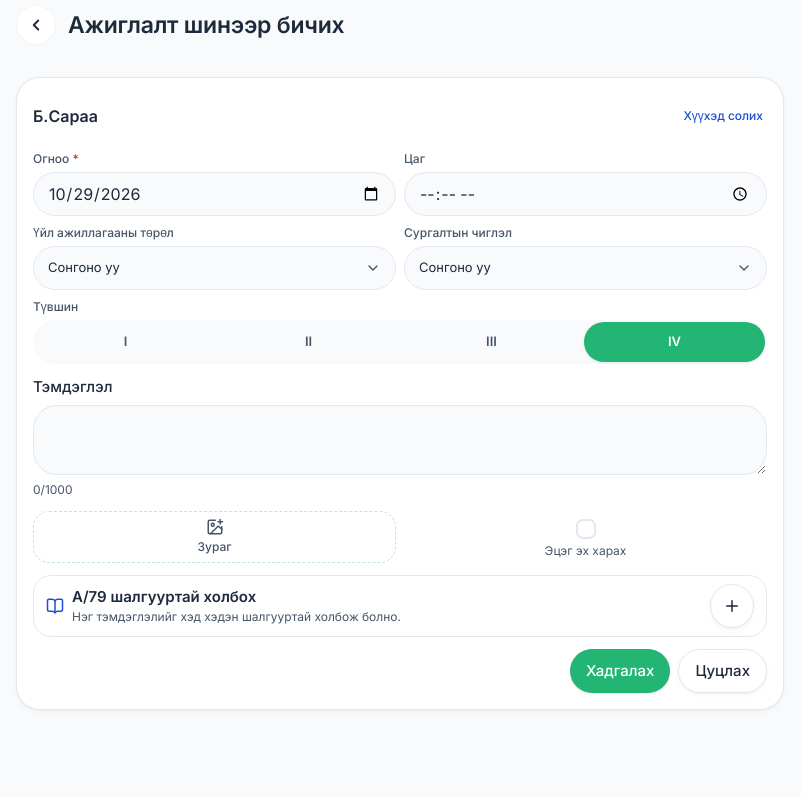
Шинэ ажиглалт — СҮД › clears the code when the strand changes
The image size is (801, 797).
Click the dropdown named "Сургалтын чиглэл": (455, 267) [404,246,767,290]
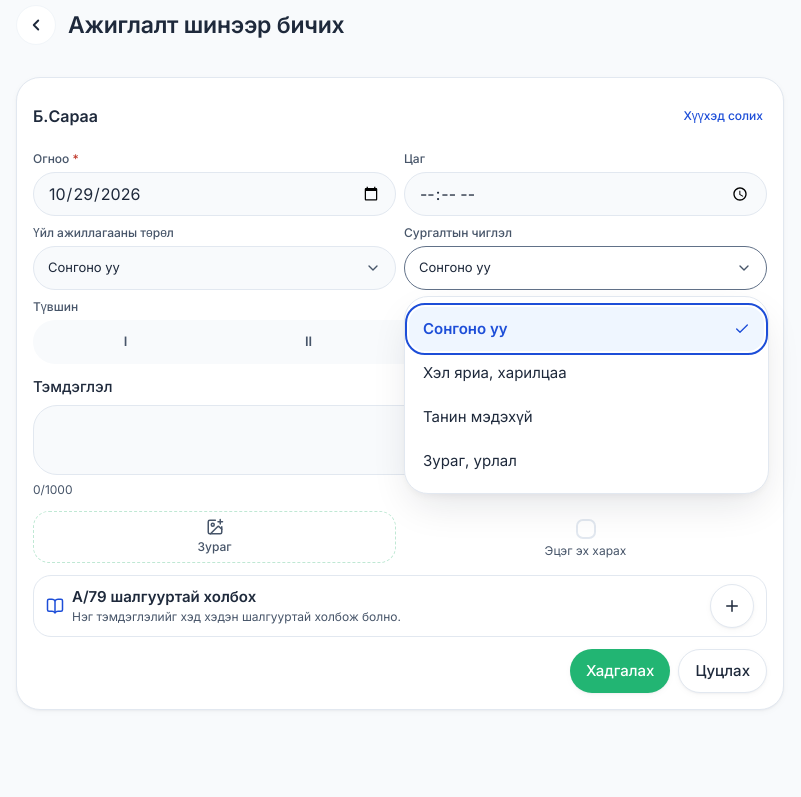
Click the option "Хэл яриа, харилцаа": (495, 372) [423,363,567,382]
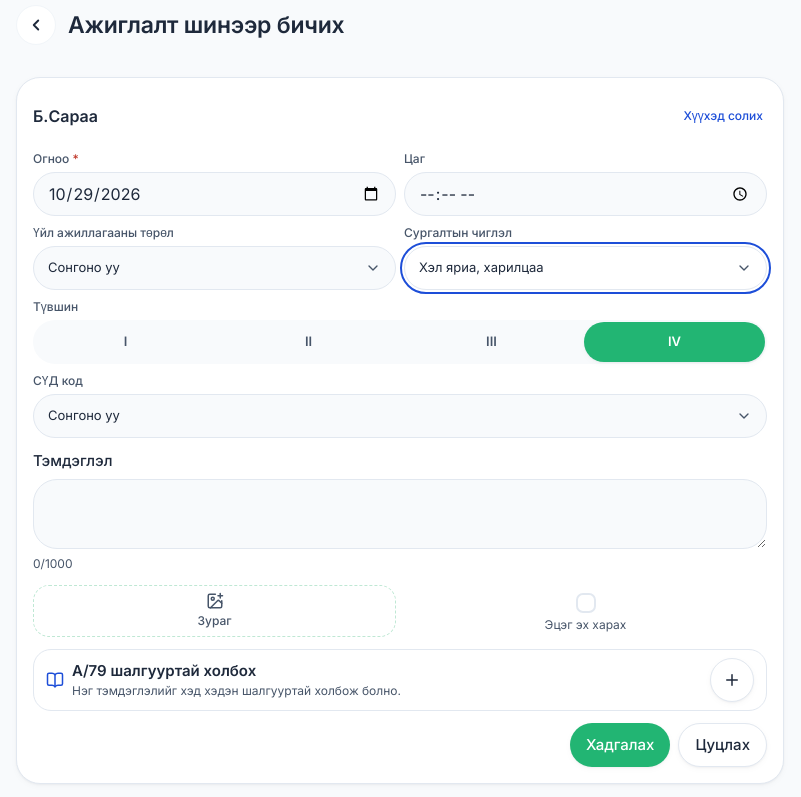
Click the dropdown named "СҮД код": (84, 415) [33,394,767,438]
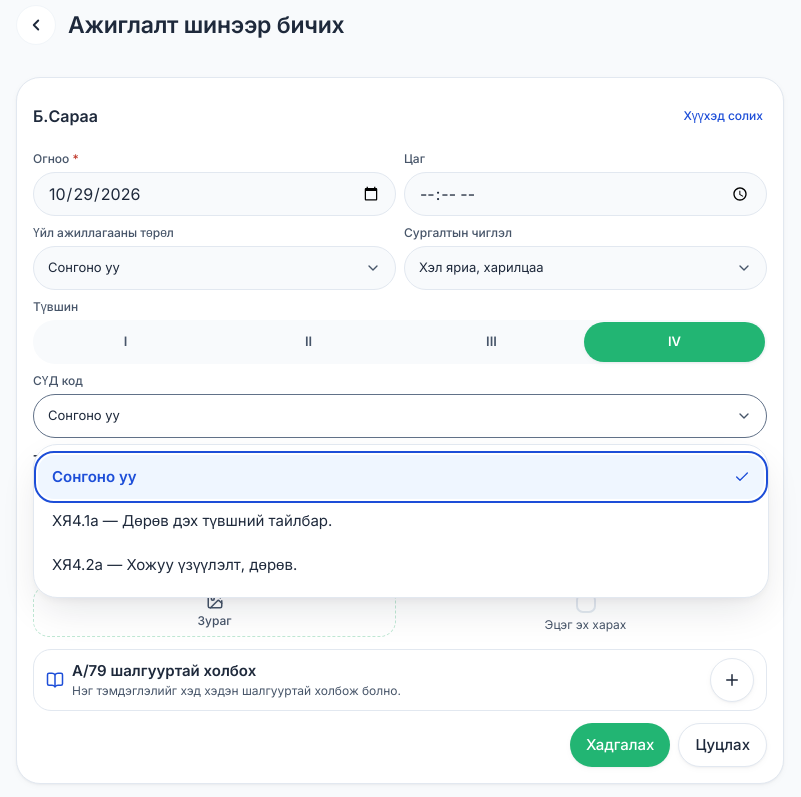
Click the option "ХЯ4.1а — Дөрөв дэх түвшний тайлбар.": (192, 520) [52,511,332,530]
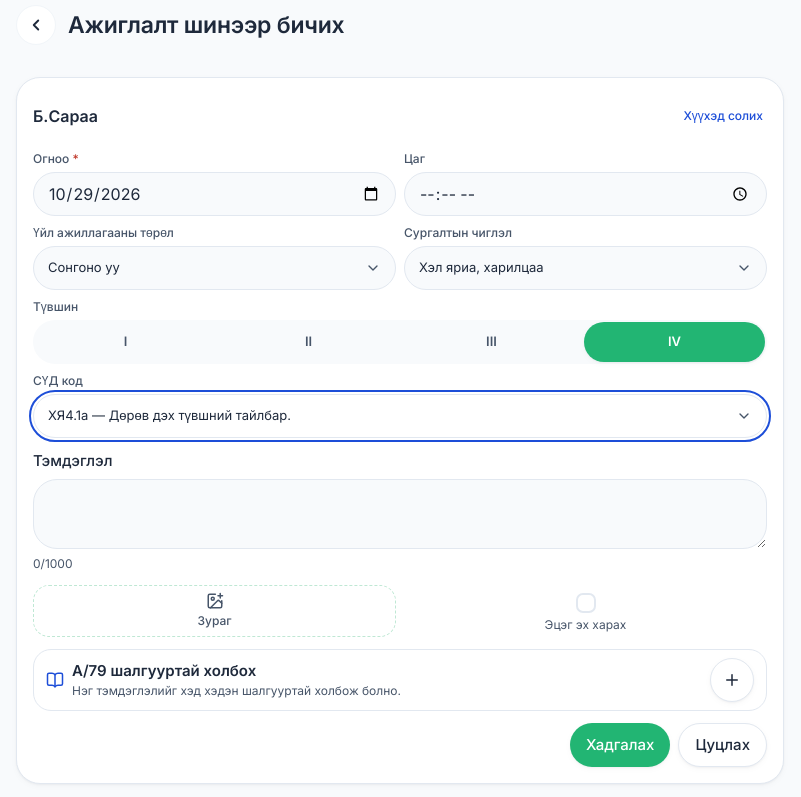
Click the dropdown named "Сургалтын чиглэл": (481, 267) [404,246,767,290]
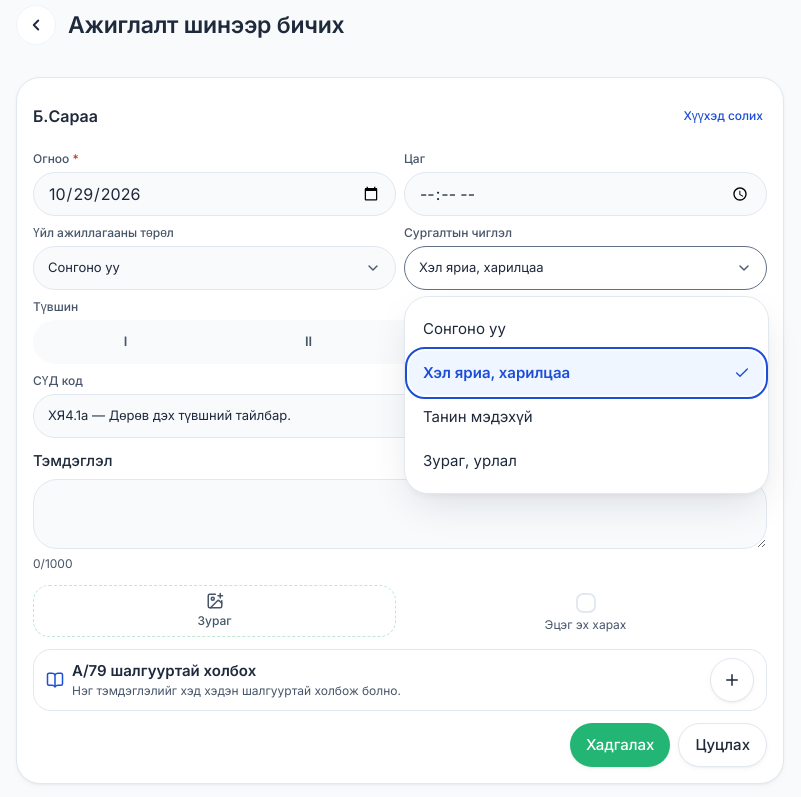
Click the option "Танин мэдэхүй": (478, 416) [423,407,533,426]
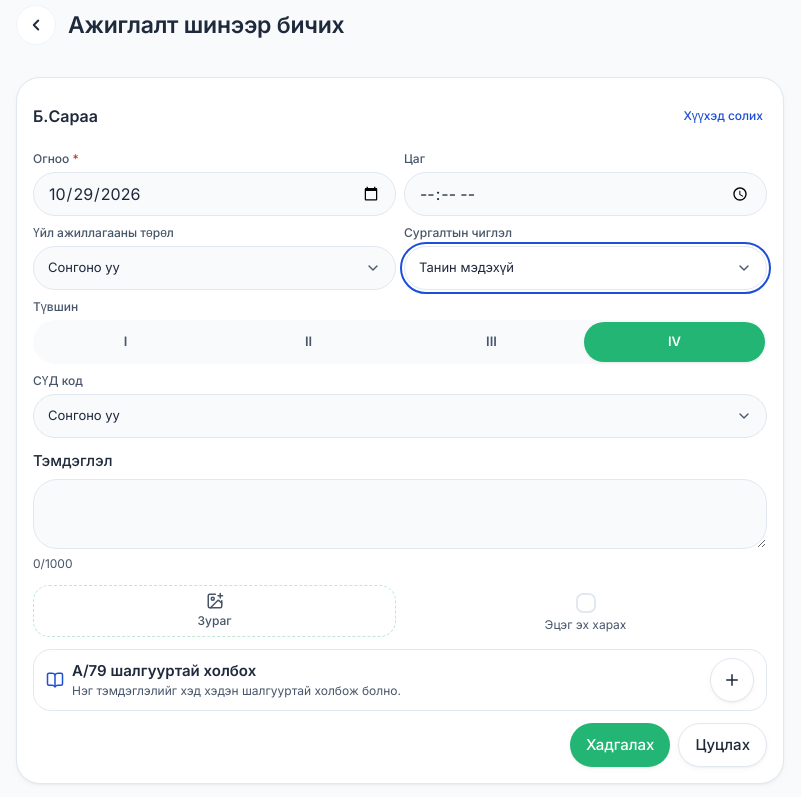
Now the dropdown named "СҮД код" reads "Сонгоно уу", box [33,394,767,438]
